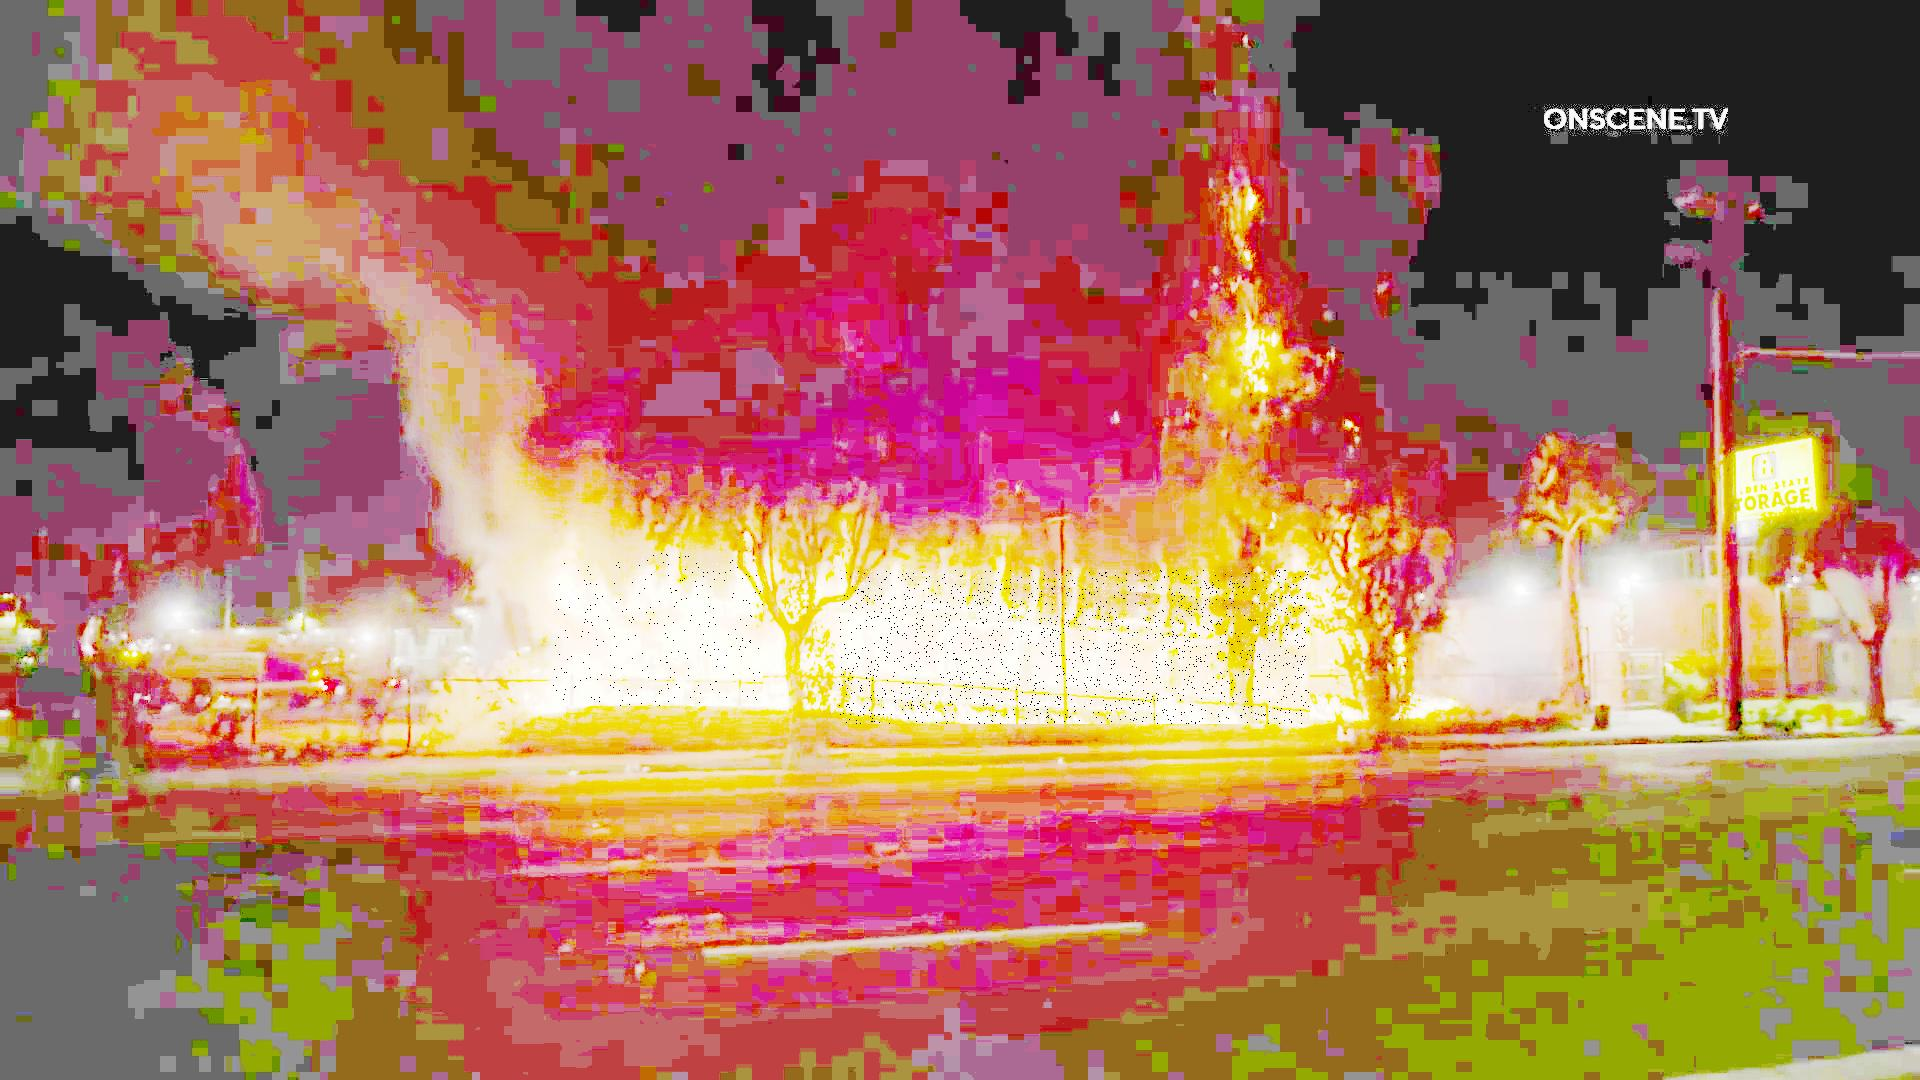fire: (839, 571, 1311, 724), (553, 553, 764, 707)
